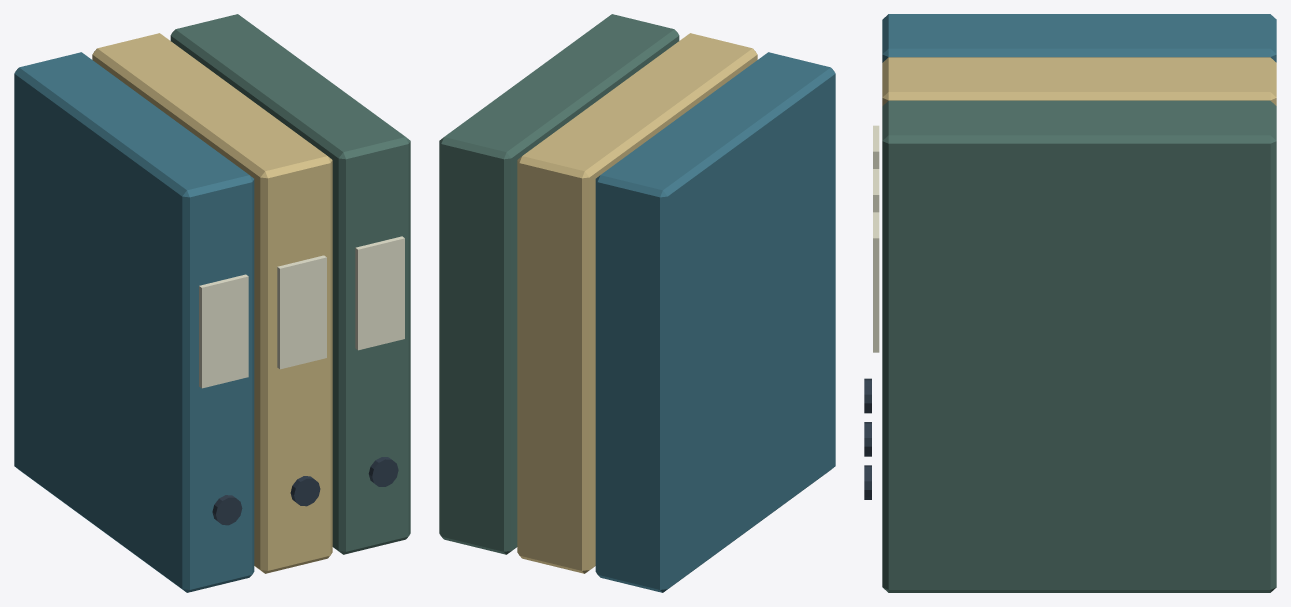
The model's file is binder_set.glb.
3 views of the same model, side by side, from view 1: azimuth 30°, elevation 25°; view 2: azimuth 150°, elevation 25°; view 3: azimuth 270°, elevation 25° (orthographic). The views are drawn at different scales.
Parts seen in each view (by area): view 1: binder_set__book_blue, binder_set__book_cream, binder_set__book_teal, binder_set__paper, binder_set__metal; view 2: binder_set__book_blue, binder_set__book_cream, binder_set__book_teal; view 3: binder_set__book_teal, binder_set__book_blue, binder_set__book_cream, binder_set__paper, binder_set__metal.
Boxes of the visible parts, x1=… form: binder_set__book_blue: x1=14, y1=52, x2=254, y2=592; binder_set__book_cream: x1=92, y1=33, x2=332, y2=573; binder_set__book_teal: x1=170, y1=14, x2=410, y2=554; binder_set__paper: x1=199, y1=236, x2=404, y2=388; binder_set__metal: x1=212, y1=457, x2=398, y2=525; binder_set__book_blue: x1=595, y1=52, x2=835, y2=592; binder_set__book_cream: x1=517, y1=33, x2=757, y2=573; binder_set__book_teal: x1=439, y1=14, x2=679, y2=554; binder_set__book_teal: x1=882, y1=100, x2=1276, y2=592; binder_set__book_blue: x1=882, y1=14, x2=1276, y2=62; binder_set__book_cream: x1=882, y1=57, x2=1276, y2=105; binder_set__paper: x1=873, y1=125, x2=879, y2=352; binder_set__metal: x1=864, y1=378, x2=871, y2=499.
Bounding box in the file's own units: 0.19 × 0.32 × 0.2615.
